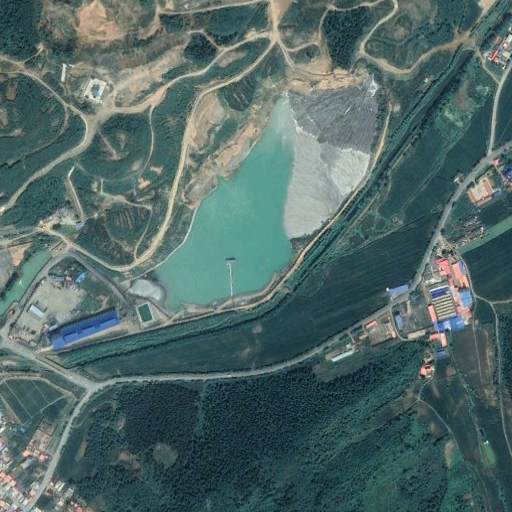tp: (134, 77, 388, 319)
